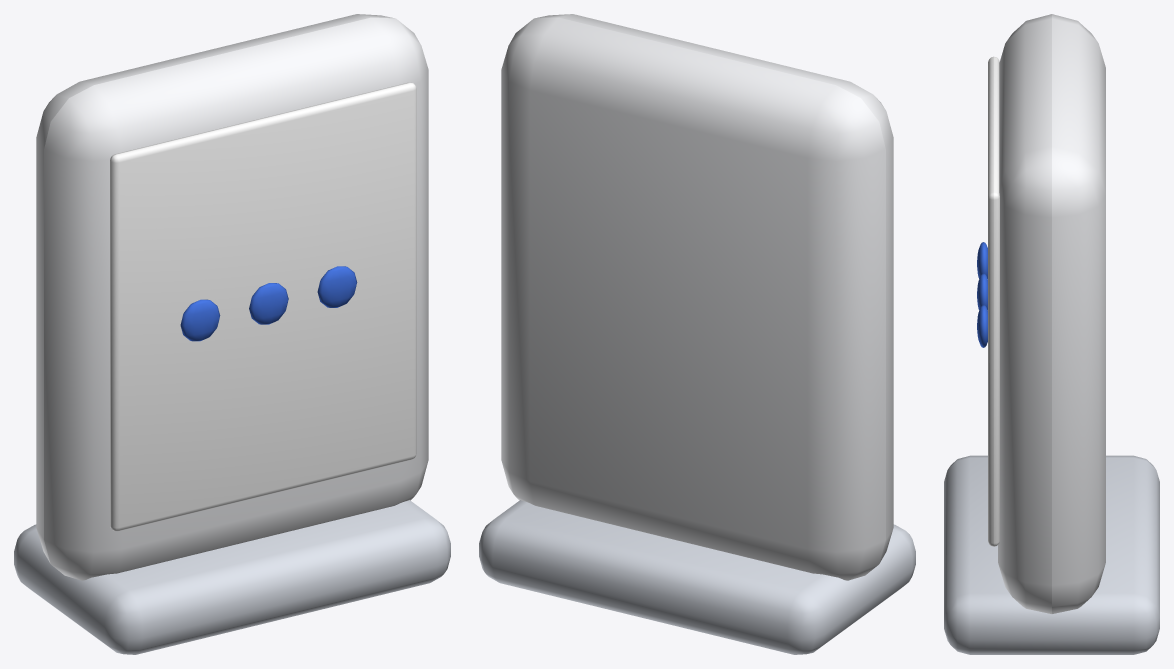
The model's file is option-default.glb.
3 views of the same model, side by side, from view 1: azimuth 30°, elevation 25°; view 2: azimuth 150°, elevation 25°; view 3: azimuth 270°, elevation 25° (orthographic). The views are drawn at different scales.
Parts seen in each view (by area): view 1: Model_Default_Surface, Model_Default_Card, Model_Default_Base, Model_Default_Accent; view 2: Model_Default_Card, Model_Default_Base; view 3: Model_Default_Card, Model_Default_Base, Model_Default_Surface, Model_Default_Accent.
Boxes of the visible parts, x1,y1,x2,y2 form: Model_Default_Surface: (110,82,416,531); Model_Default_Card: (36,14,428,580); Model_Default_Base: (14,500,450,654); Model_Default_Accent: (180,266,357,341); Model_Default_Card: (501,14,893,580); Model_Default_Base: (479,500,915,654); Model_Default_Card: (998,14,1105,613); Model_Default_Base: (944,455,1159,654); Model_Default_Surface: (988,56,999,546); Model_Default_Accent: (977,242,987,347).
Bounding box in the file's own units: 0.55 × 0.745 × 0.29.
